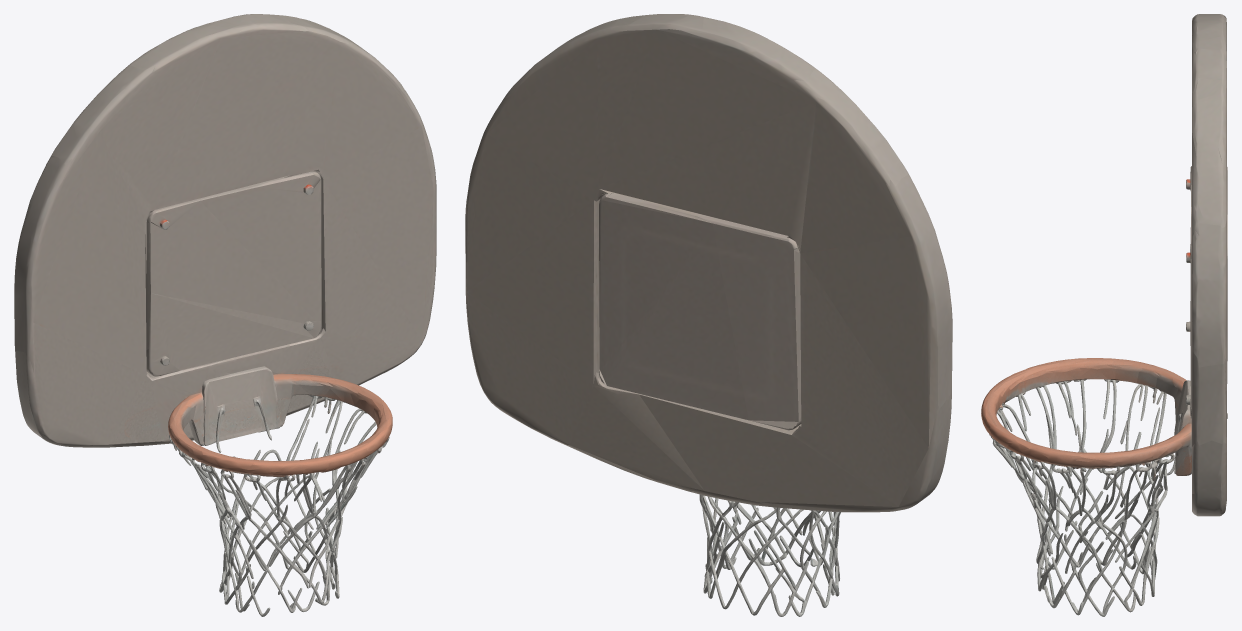
3 views of the same model, side by side, from view 1: azimuth 30°, elevation 25°; view 2: azimuth 150°, elevation 25°; view 3: azimuth 270°, elevation 25° (orthographic). The views are drawn at different scales.
Bounding box in the file's own units: 1.54 × 1.9 × 0.766.
Materials: 1 (1 with a texture image).
